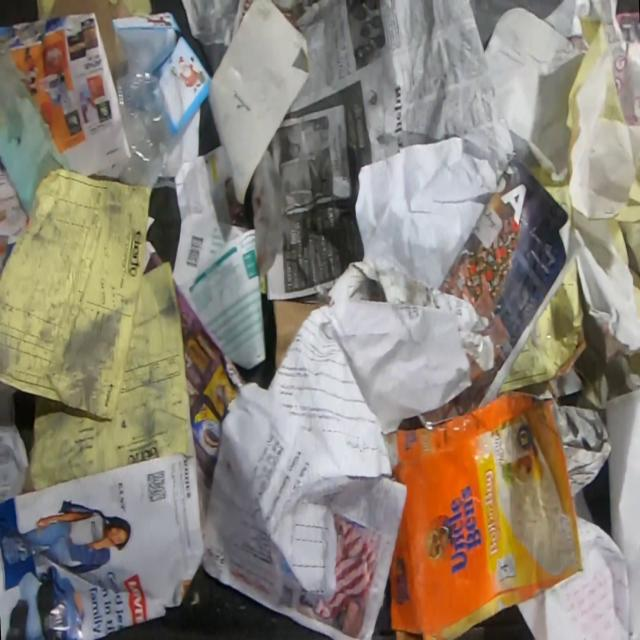cardboard: (381, 367, 586, 640), (270, 292, 330, 374)
soft_plastic: (114, 67, 173, 190)
